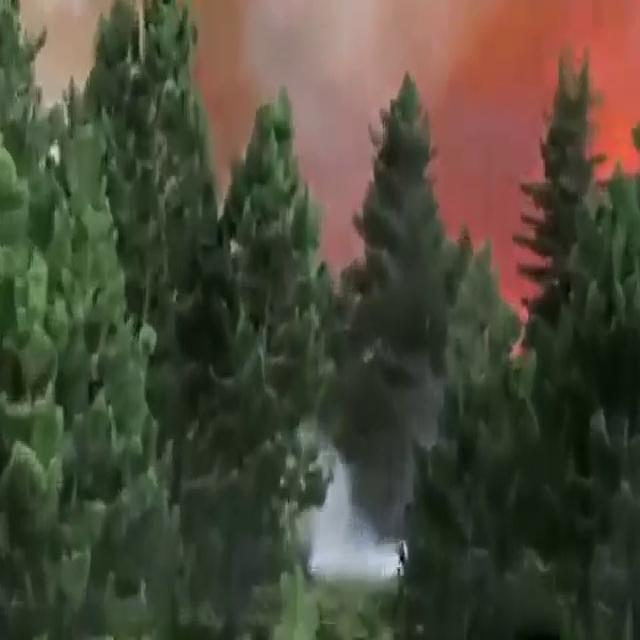Smoke: (205, 0, 401, 174)
